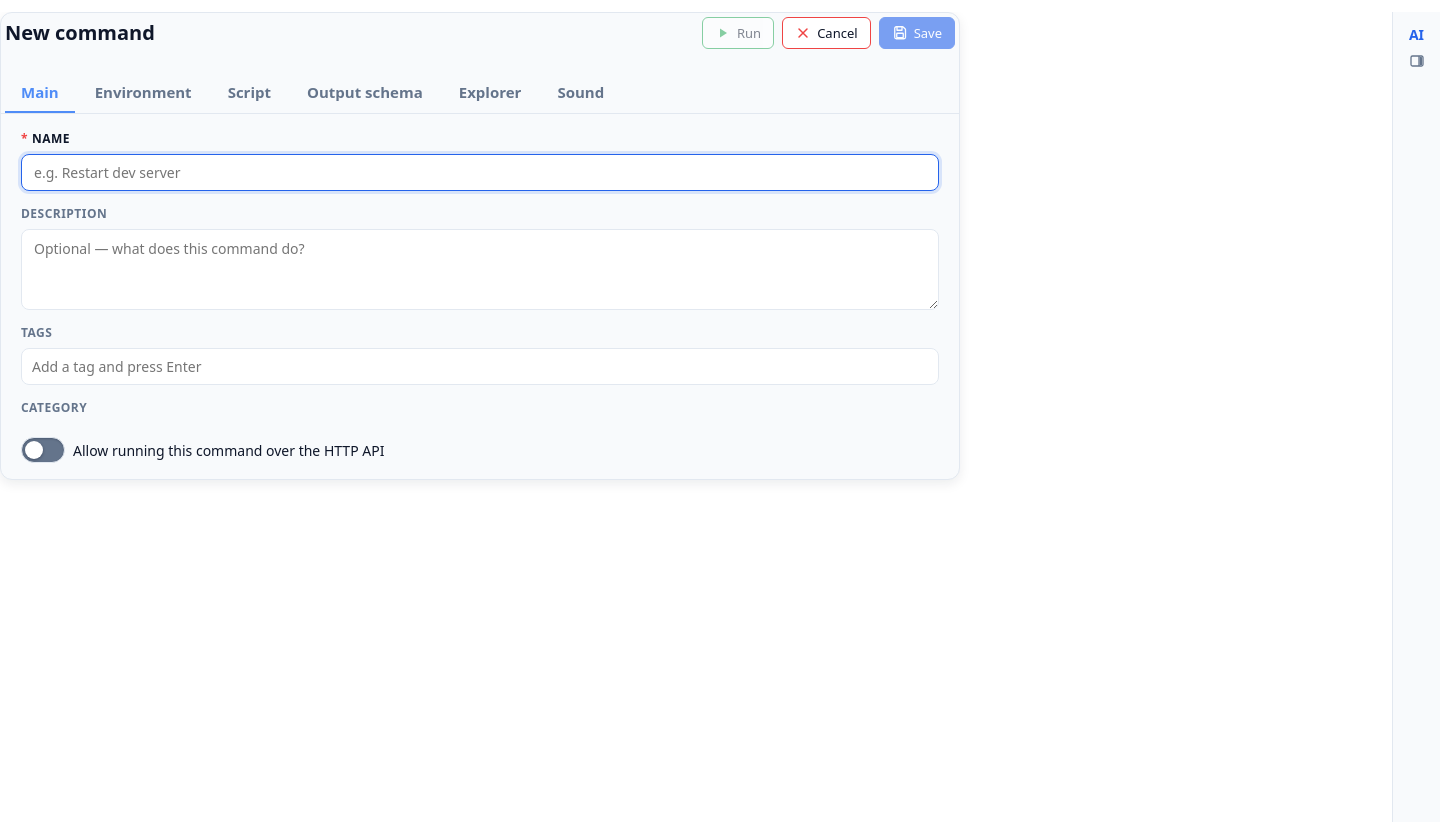
Scenario: CommandForm — tabs › Save with an empty Script jumps to the Script tab and shows the error
In the field with placeholder "e.g. Restart dev server": (480, 172) [21,154,939,191], type "Test cmd"
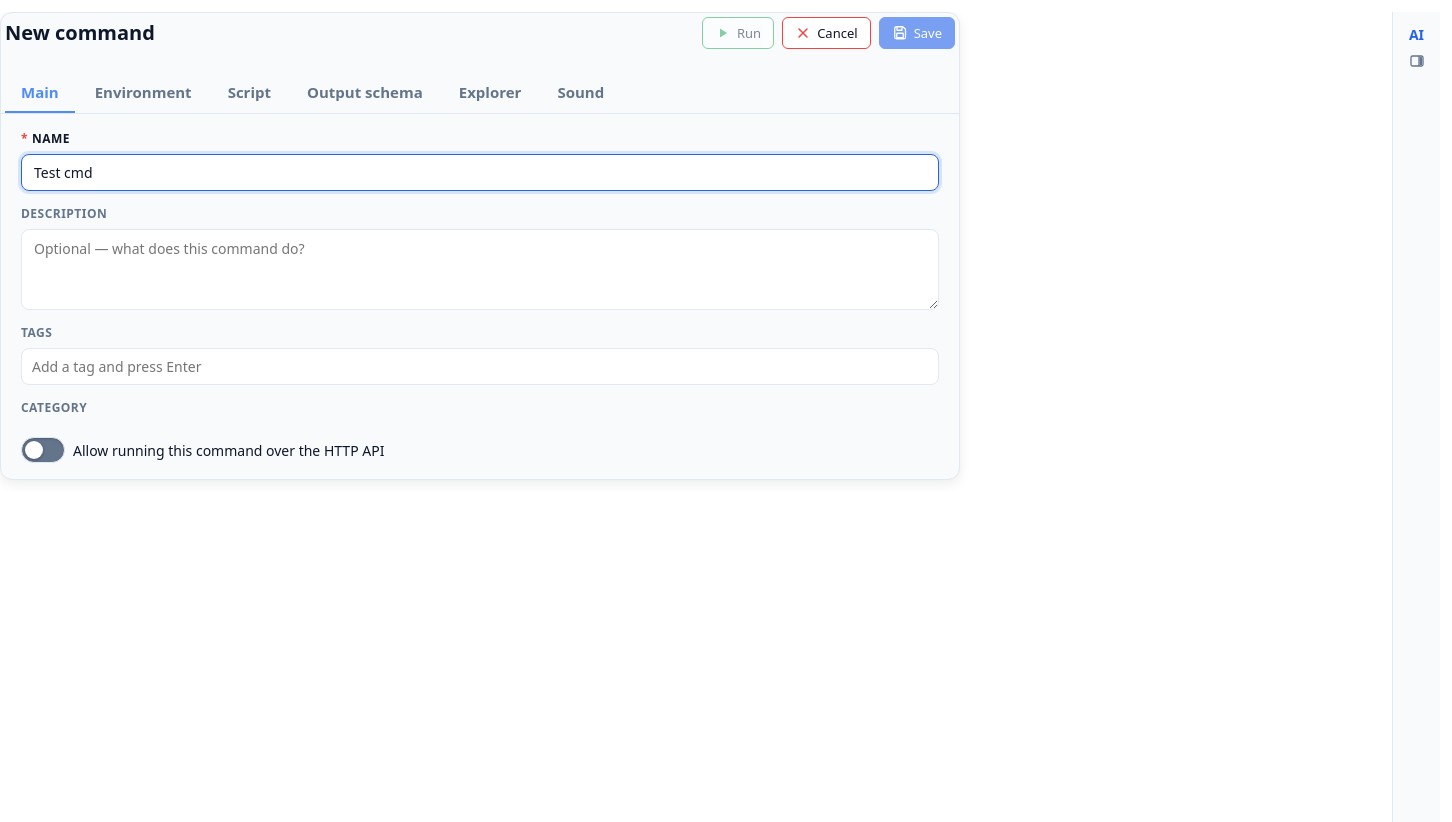
Click the button "Save": (917, 33) [879,17,955,49]
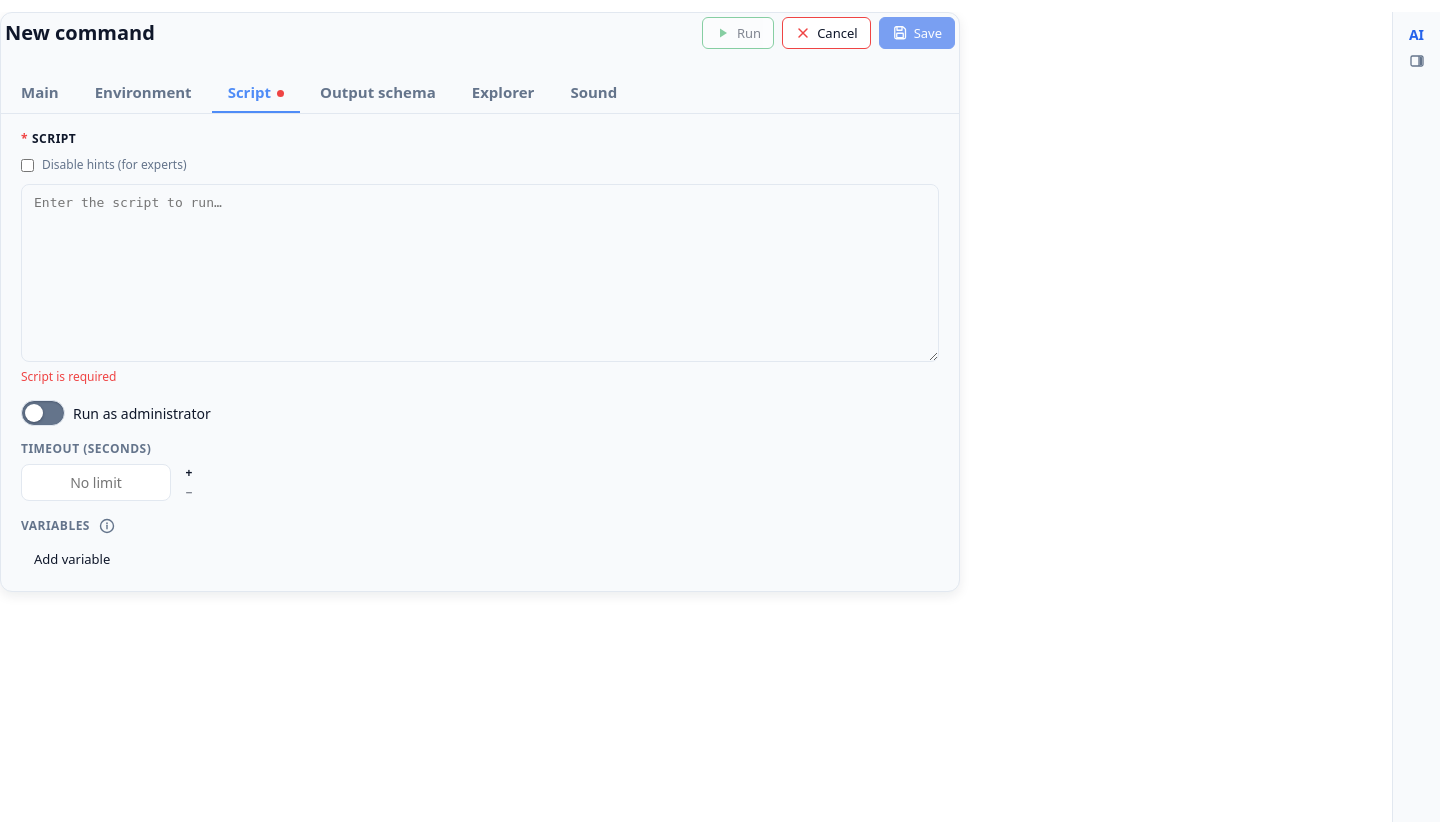
Expected: the text box with placeholder "Enter the script to run…" is shown, [21,184,939,362]
